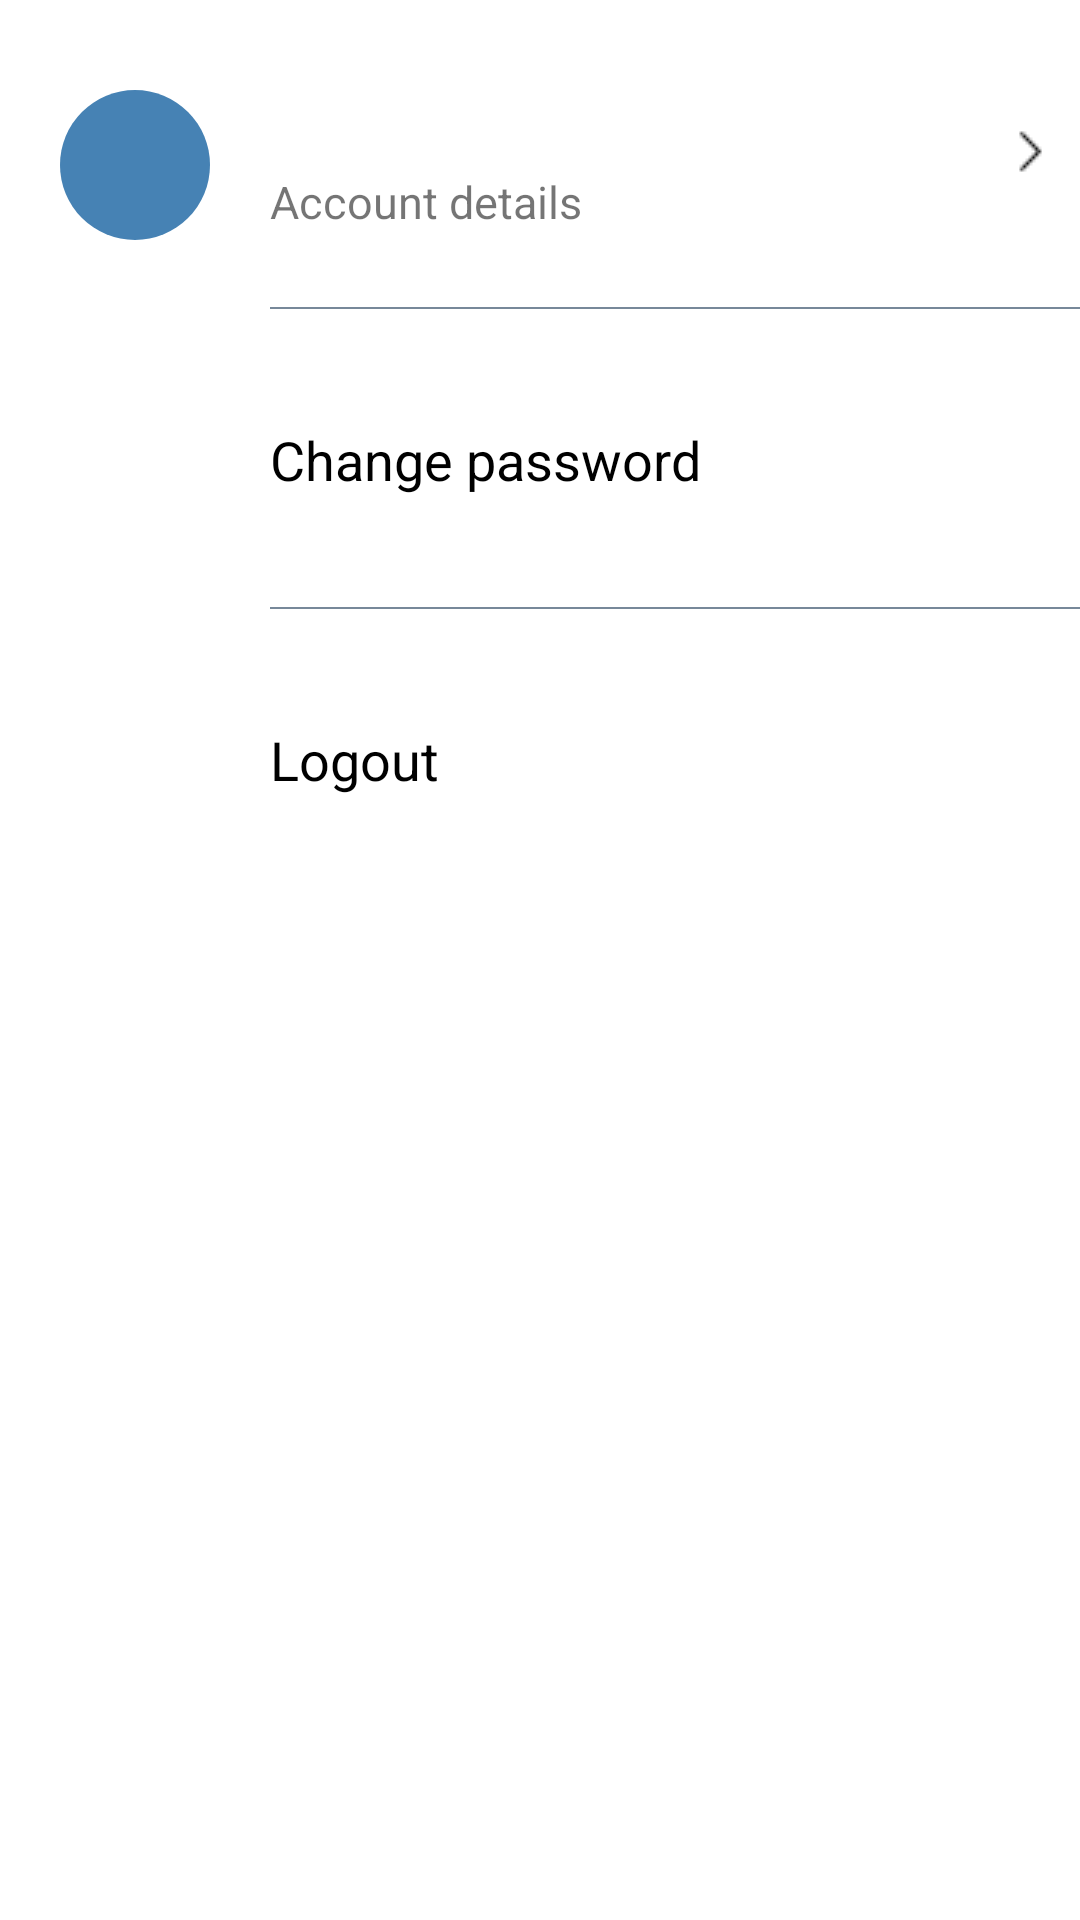

Screen size 1080×1920. Icon name, then its center in pixels as (x=x, y=y):
arrows: (x=1030, y=151)
